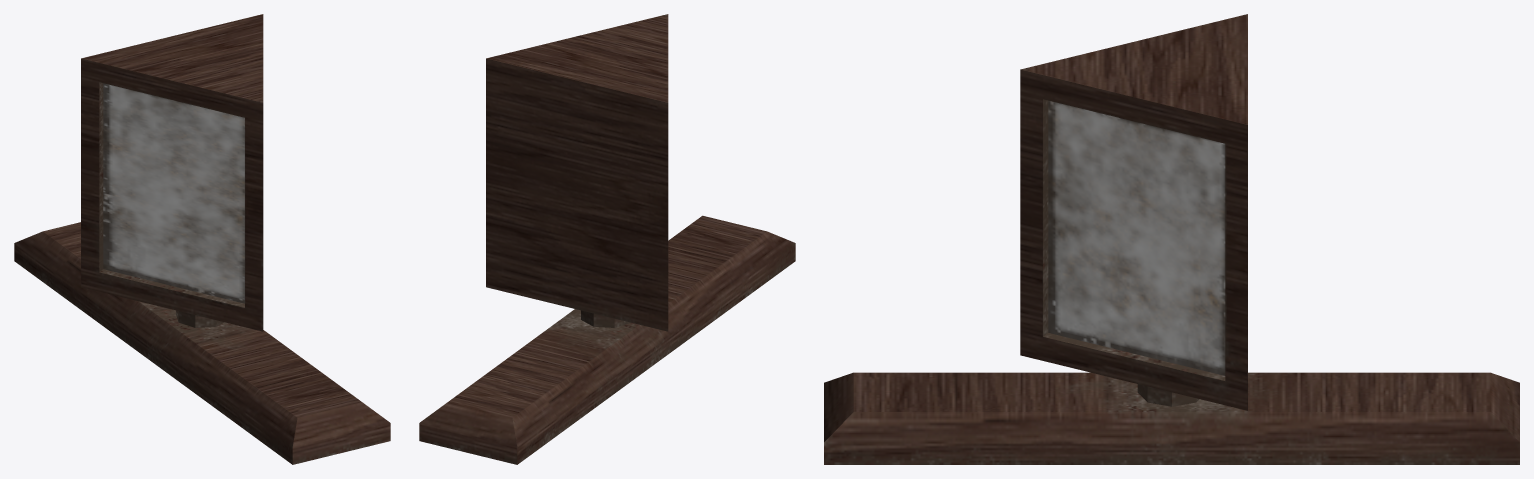
The model's file is Stereopsis_part2.gltf.
The picture shows the model from 3 angles, left to right: view 1: azimuth 30°, elevation 25°; view 2: azimuth 150°, elevation 25°; view 3: azimuth 270°, elevation 25°; orthographic projection. The views are drawn at different scales.
Visible parts, largest first — view 1: PartMiddle; view 2: PartMiddle; view 3: PartMiddle.
Boxes of the visible parts, x1,y1,x2,y2 form: PartMiddle: [14, 14, 390, 464]; PartMiddle: [419, 14, 795, 464]; PartMiddle: [824, 14, 1519, 464].
Bounding box in the file's own units: 0.2115 × 0.3244 × 0.5596.
1 material, 1 textured.
